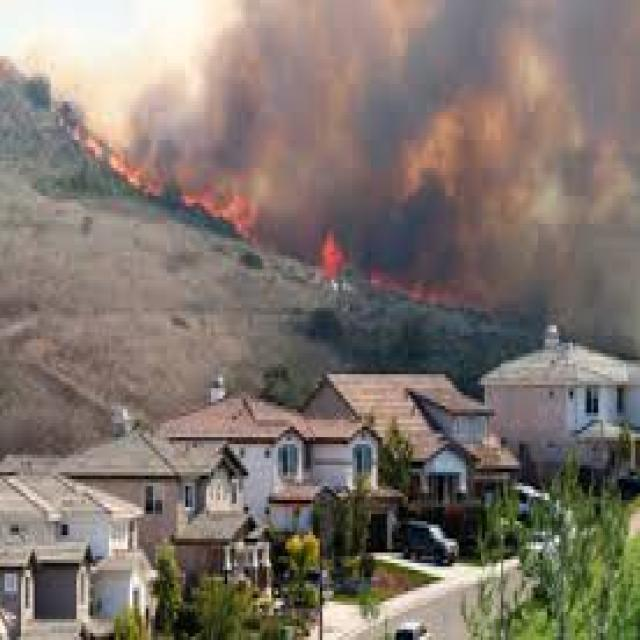Fire: (80, 135, 262, 239), (318, 236, 357, 274)
Smoke: (115, 0, 640, 353)
